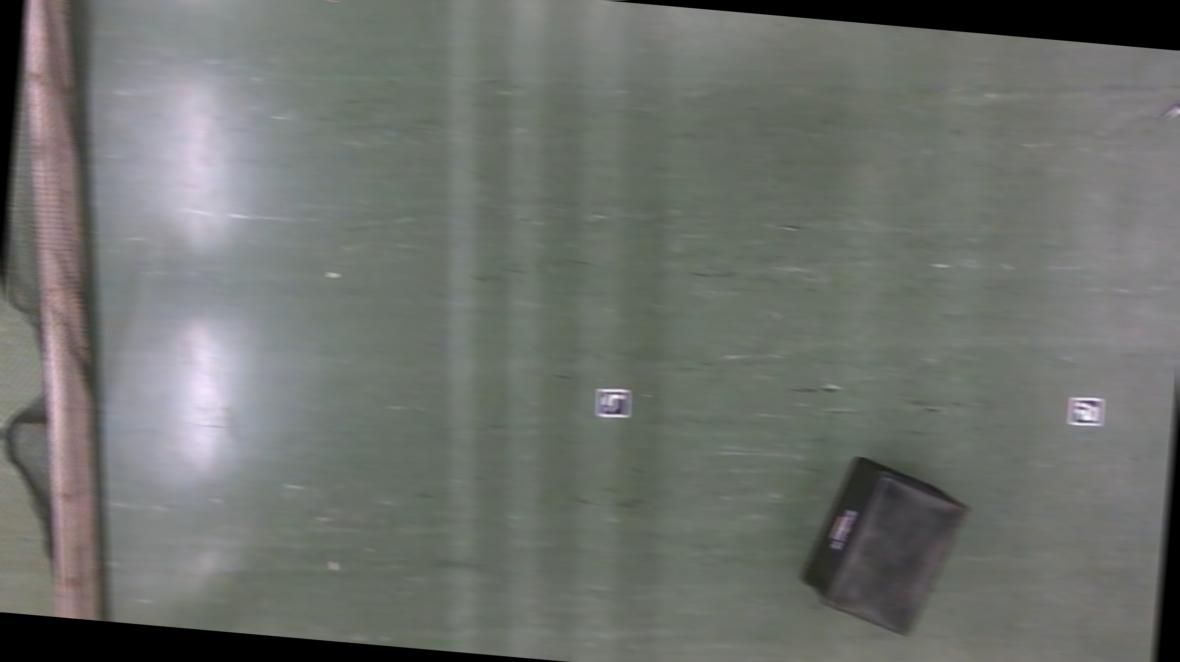probes: (1164, 80, 1180, 122)
rako: (796, 450, 976, 640)
